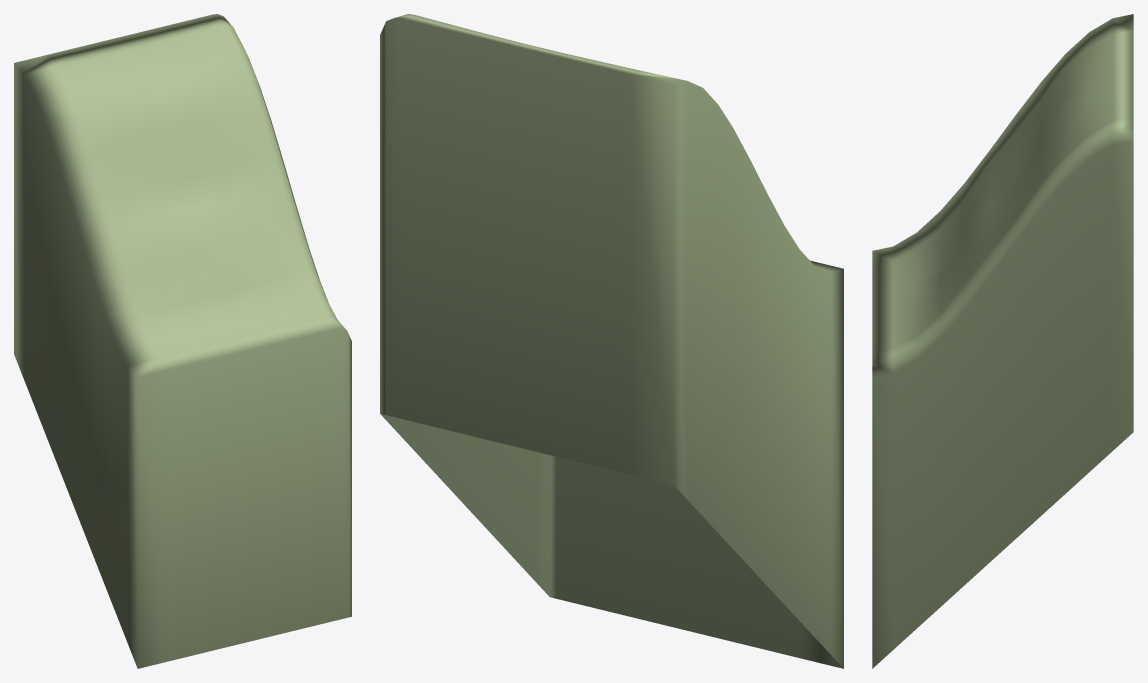
The model's file is ground-ramp-r-02.glb.
3 views of the same model, side by side, from view 1: azimuth 30°, elevation 25°; view 2: azimuth 150°, elevation 25°; view 3: azimuth 270°, elevation 25° (orthographic). The views are drawn at different scales.
Parts seen in each view (by area): view 1: ground-ramp-r-02; view 2: ground-ramp-r-02; view 3: ground-ramp-r-02.
Part boxes in pixels (x1,y1,x2,y2): ground-ramp-r-02: (14, 14, 351, 668); ground-ramp-r-02: (380, 14, 843, 668); ground-ramp-r-02: (872, 14, 1133, 668).
Size of the model in its own units: 1 by 2.3 by 1.
